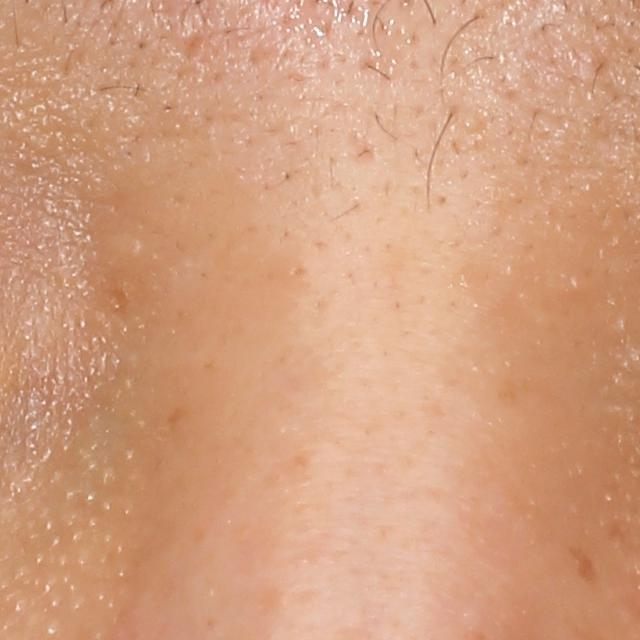atrophic_scar: (344, 123, 378, 166), (178, 33, 206, 66)
melasma: (561, 547, 601, 585)
